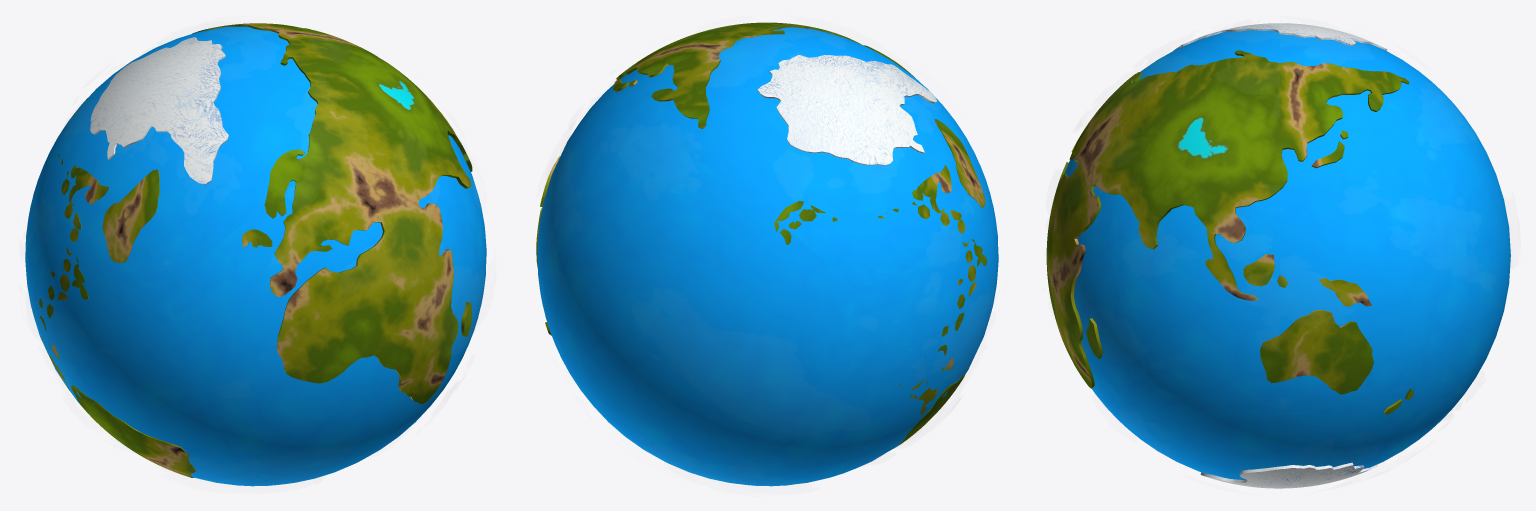
The model's file is earth.glb.
3 views of the same model, side by side, from view 1: azimuth 30°, elevation 25°; view 2: azimuth 150°, elevation 25°; view 3: azimuth 270°, elevation 25° (orthographic).
Parts seen in each view (by area): view 1: Ocean, CONT_Extrude, SP_Extrude; view 2: Ocean, SP_Extrude, CONT_Extrude; view 3: Ocean, CONT_Extrude, NP_Extrude, SP_Extrude.
Boxes of the visible parts, box(x1,y1,x2,y2) form: Ocean: box(25, 26, 486, 486); CONT_Extrude: box(39, 23, 472, 477); SP_Extrude: box(90, 37, 228, 184); Ocean: box(537, 27, 998, 486); SP_Extrude: box(757, 55, 936, 165); CONT_Extrude: box(536, 22, 987, 448); Ocean: box(1064, 30, 1510, 479); CONT_Extrude: box(1046, 50, 1413, 414); NP_Extrude: box(1200, 462, 1377, 488); SP_Extrude: box(1173, 23, 1386, 50).
Size of the model in its own units: 260 by 260 by 260.
4 materials, 3 textured.
